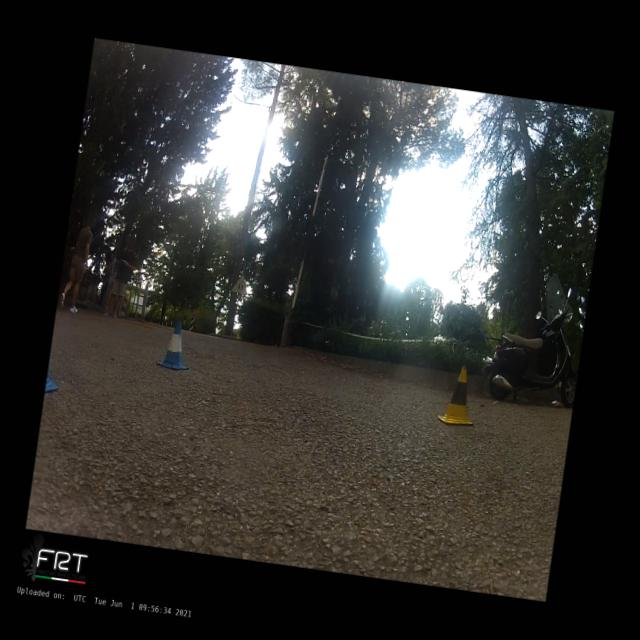blue_cone: (154, 318, 194, 372)
yellow_cone: (436, 363, 482, 428)
